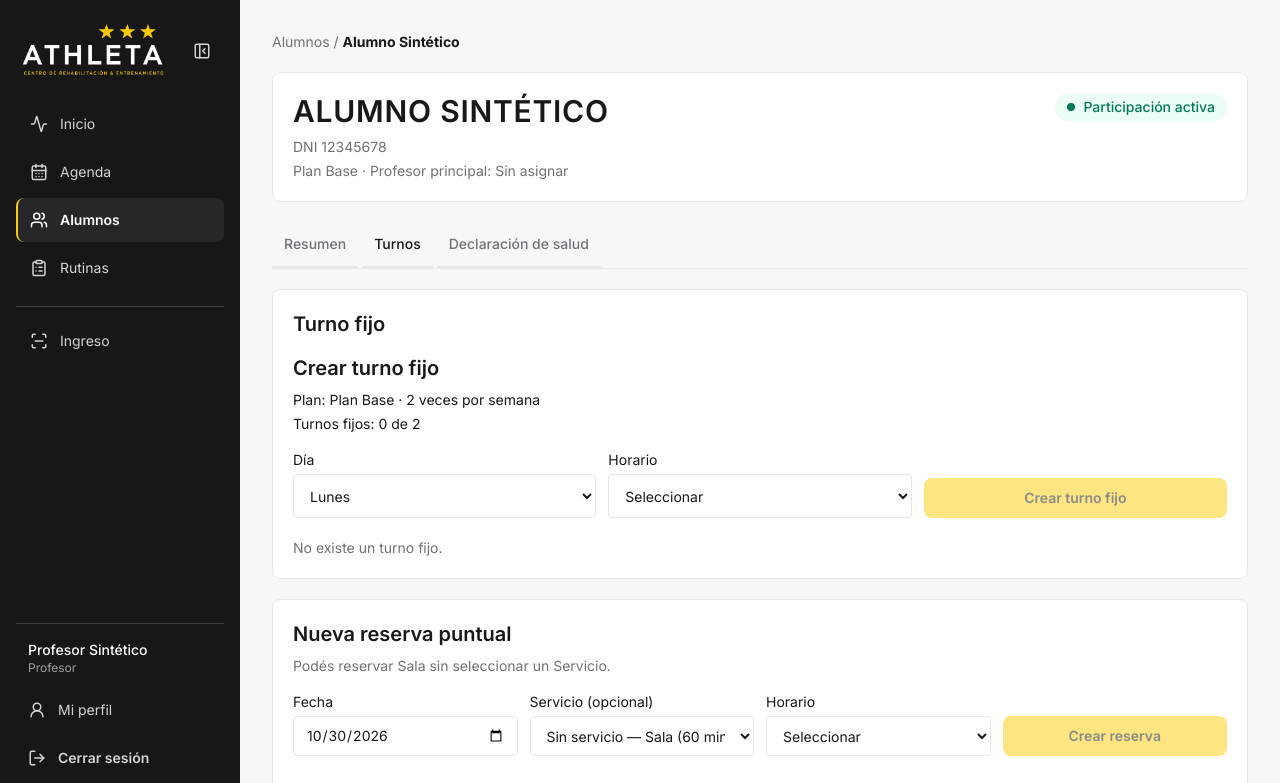
Test case: allows general Sala without configured services on the reservations tab
The width and height of the screenshot is (1280, 783).
Expected: the text "Podés reservar Sala sin seleccionar un Servicio." is shown, [293,657,611,674]
Expected: the button "Crear reserva" is disabled, [1002,716,1227,756]
Select "09:00" in the dropdown labelled "Horario" below "Servicio (opcional)" at (878, 736), box [766,716,990,756]
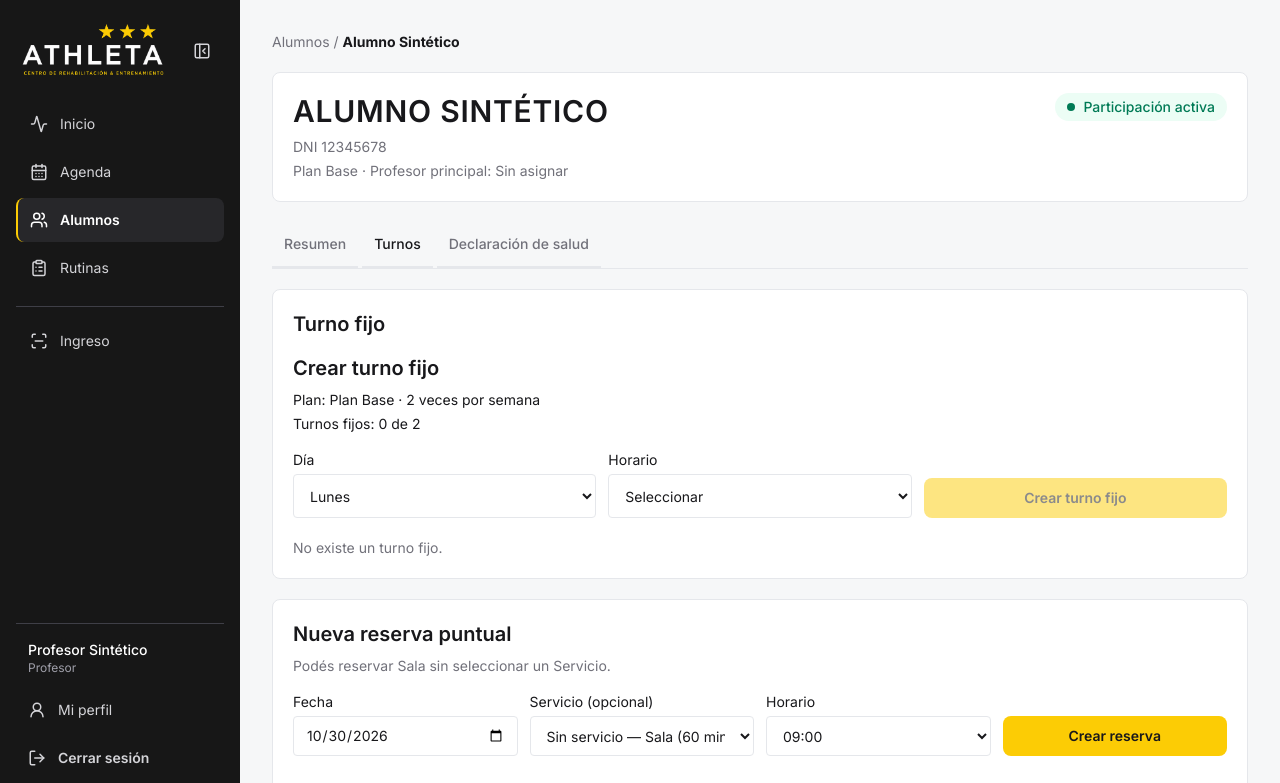
Now the button "Crear reserva" is enabled, box [1002,716,1227,756]
